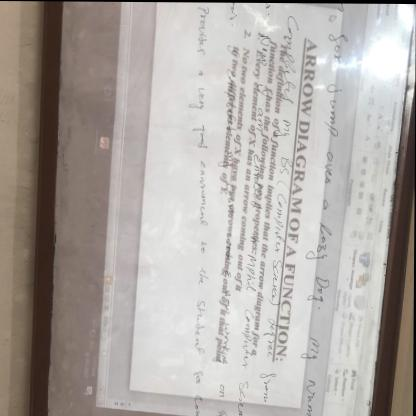Handwritten text: (299, 2, 355, 416), (256, 5, 309, 416), (175, 1, 217, 416), (214, 42, 250, 416)
Whiteboard: (45, 0, 416, 416)
